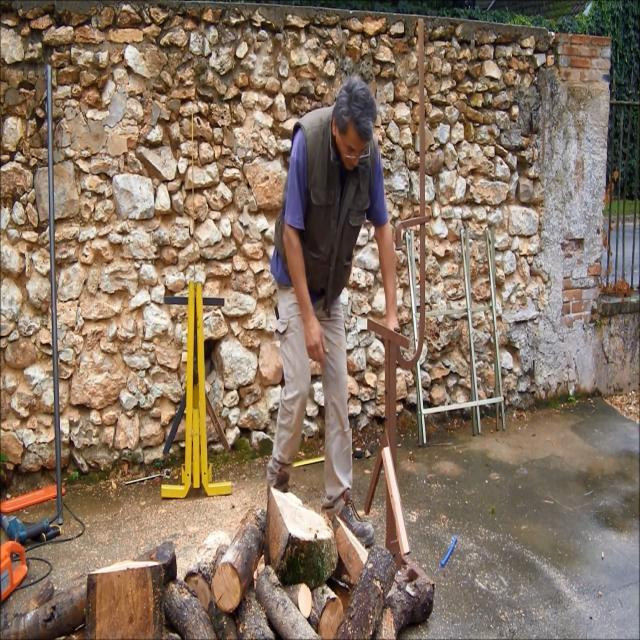Chainsaw: (0, 495, 62, 640)
